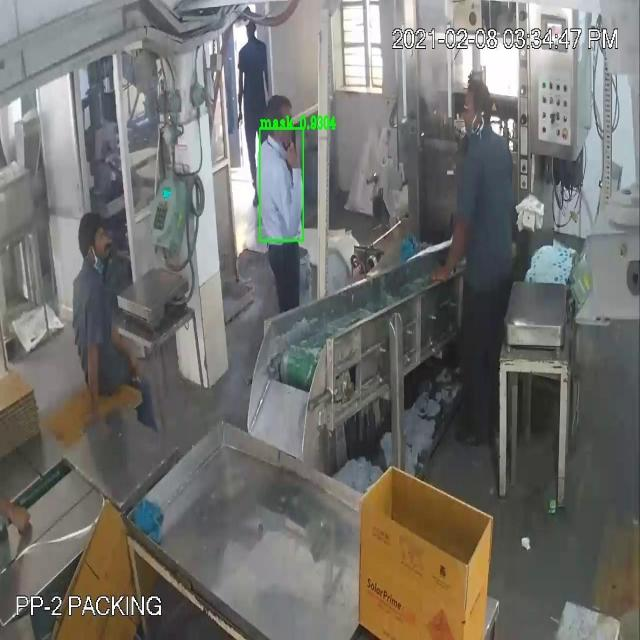No_Gloves: (22, 82, 455, 511)
